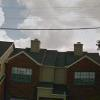Chimney: (26, 32, 47, 62)
